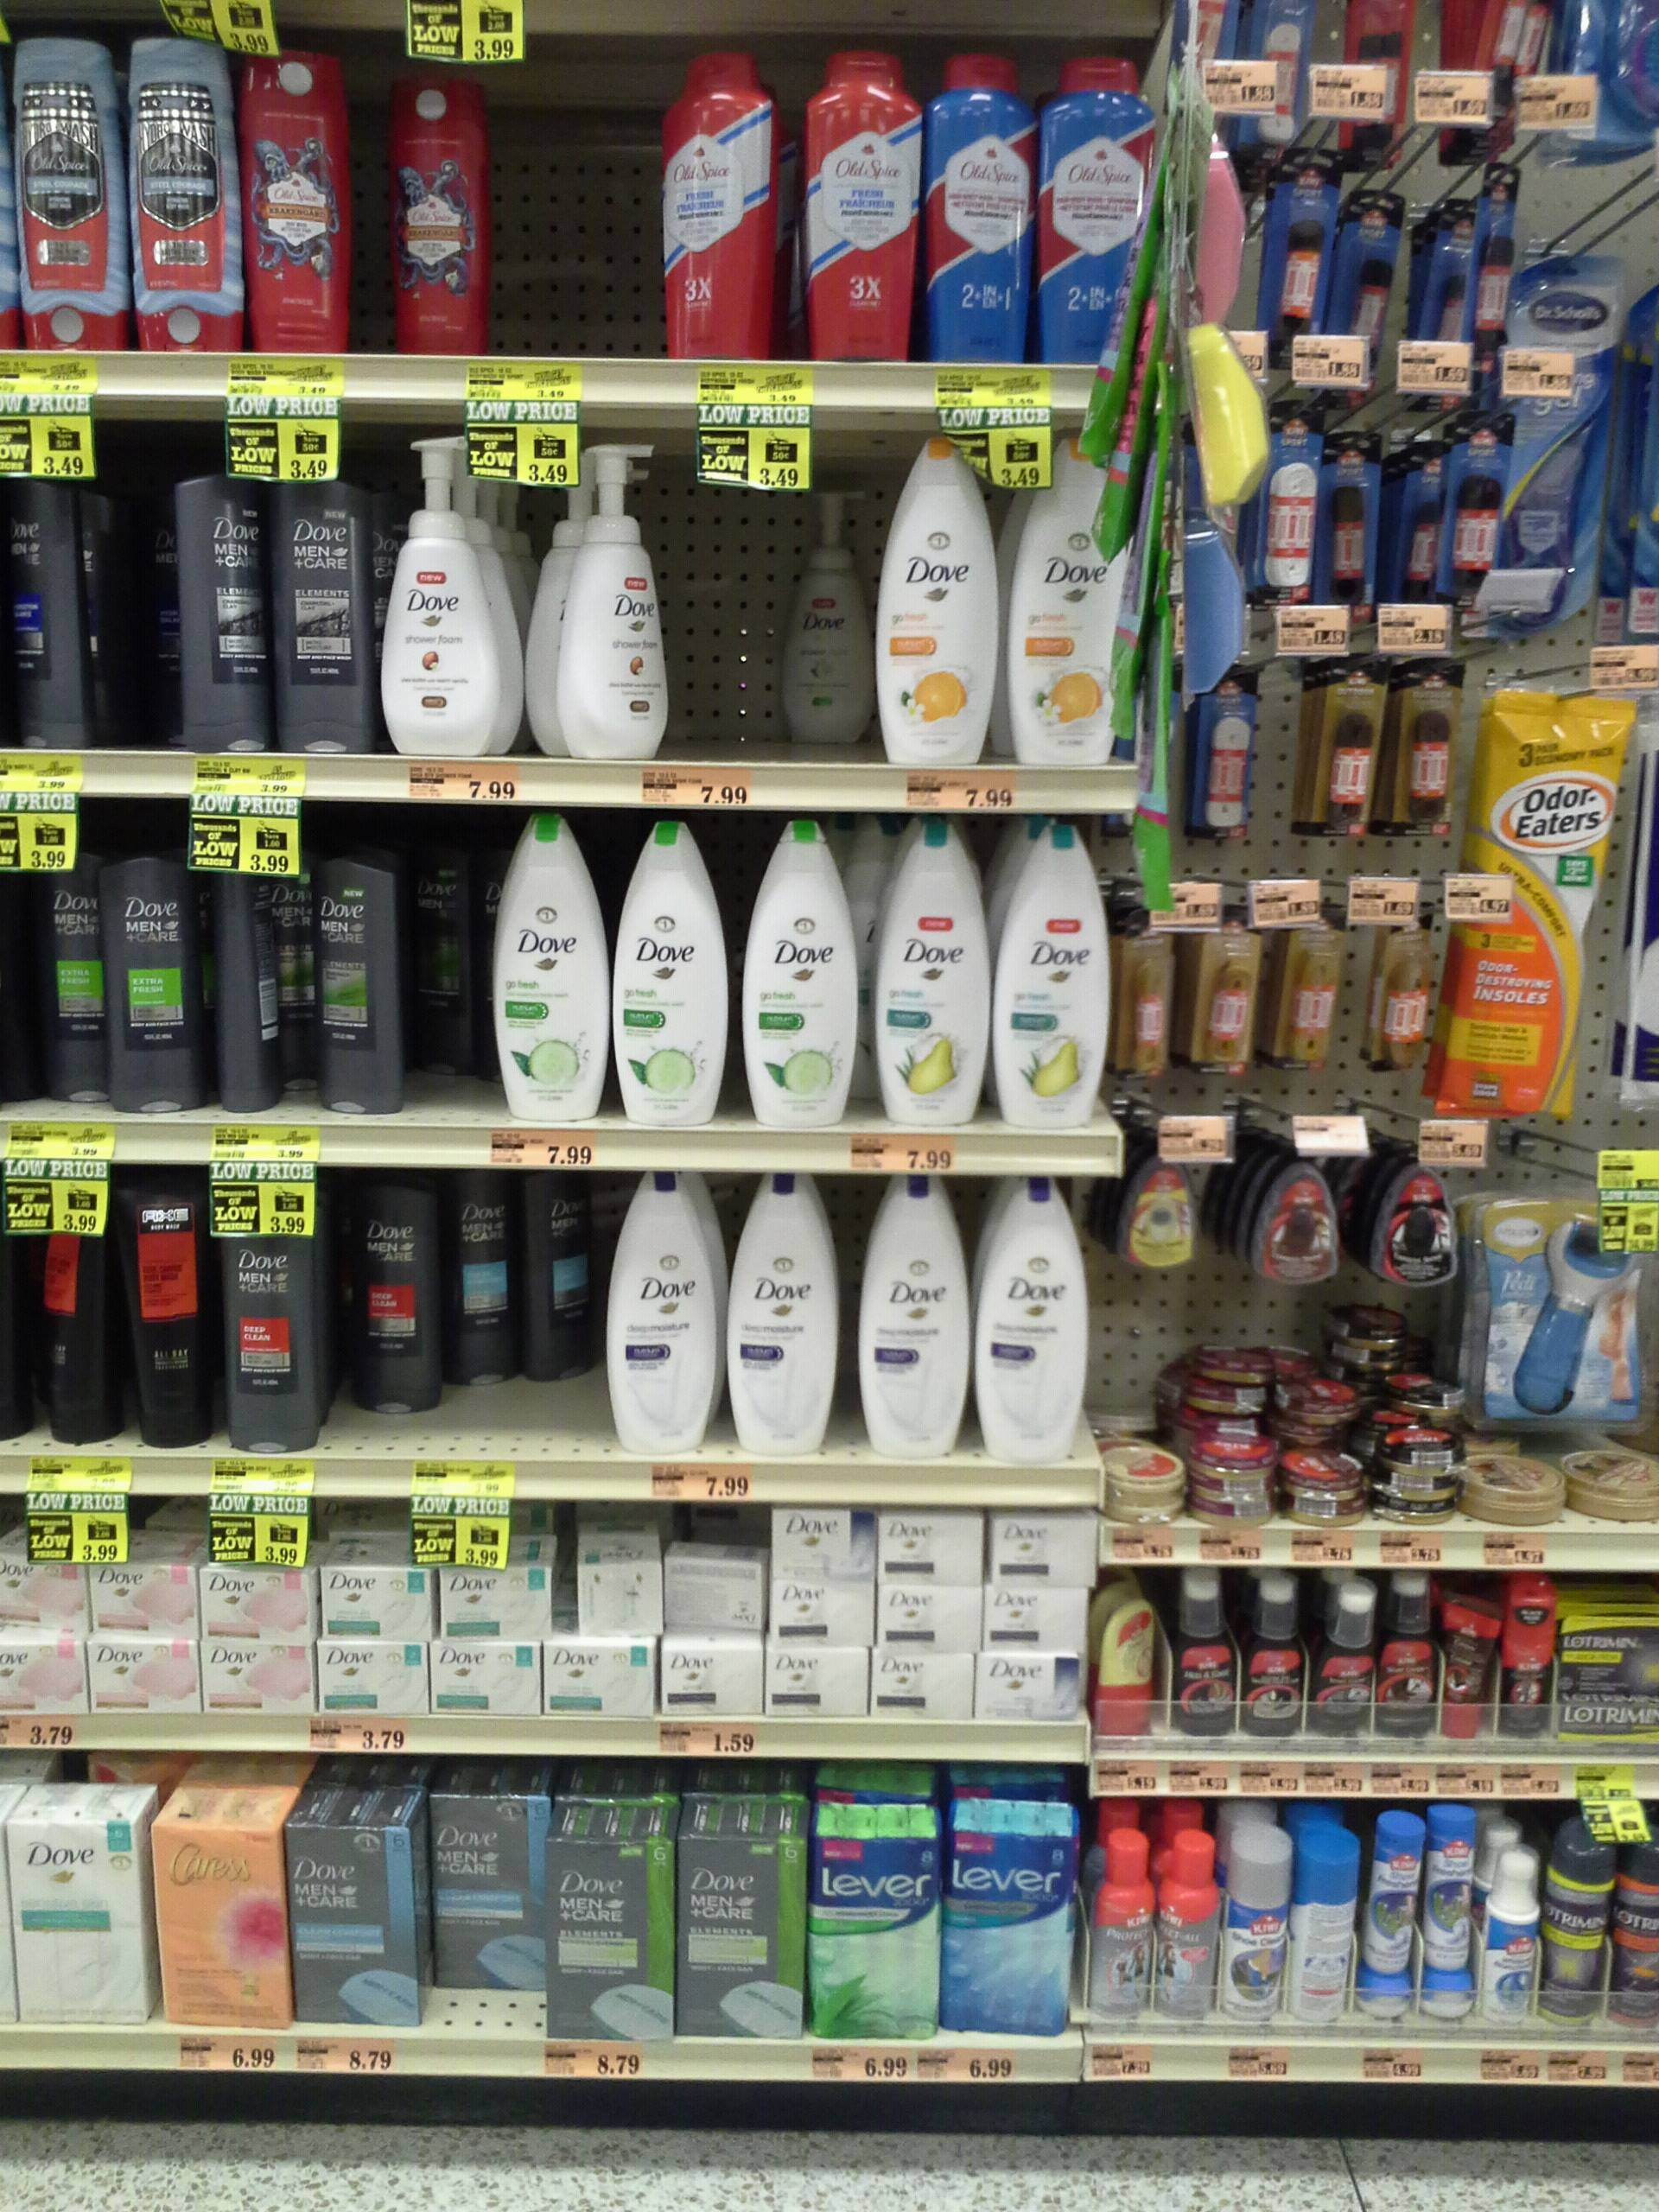Misplacement: (340, 1169, 606, 1461)
Out-of-stock: (500, 70, 659, 357)
